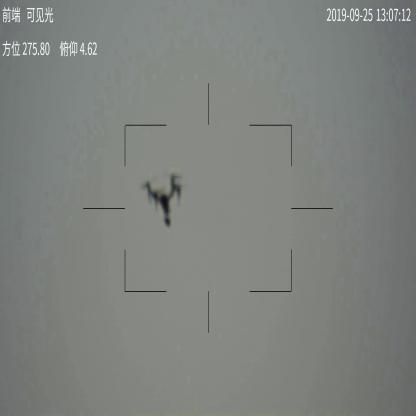uav: (139, 169, 183, 230)
